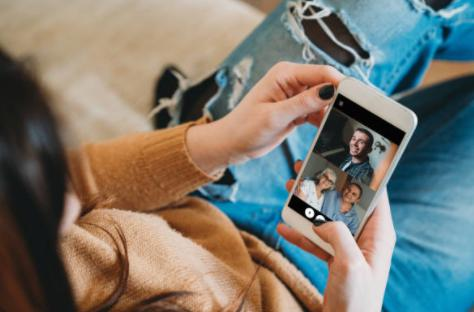mobile: (281, 76, 417, 259)
